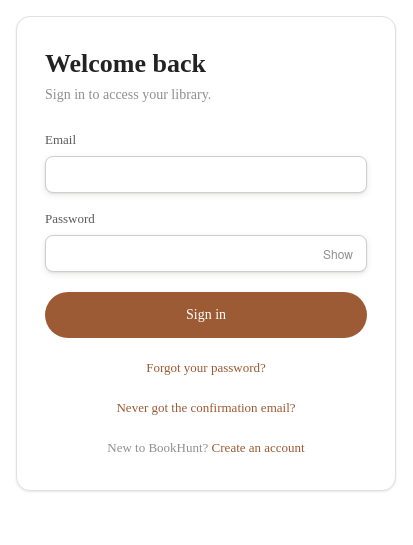
Test: LoginPage › shows an inline error and stays on the page when credentials are rejected
Type "reader@example.com" into the field labelled "Email".
click(206, 174); type("reader@example.com")  # box [45,156,367,193]
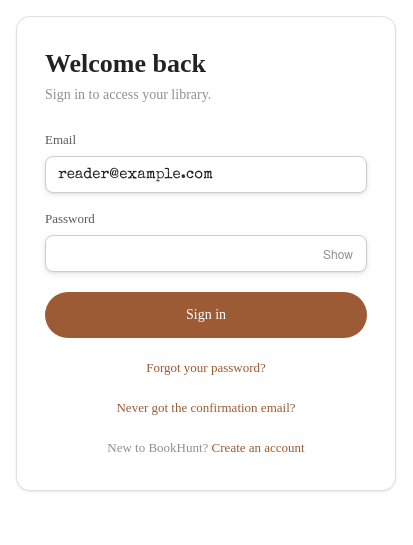
Type "b00kW0rm!" into the password field labelled "Password".
click(206, 254); type("b00kW0rm!")  # box [45,235,367,272]
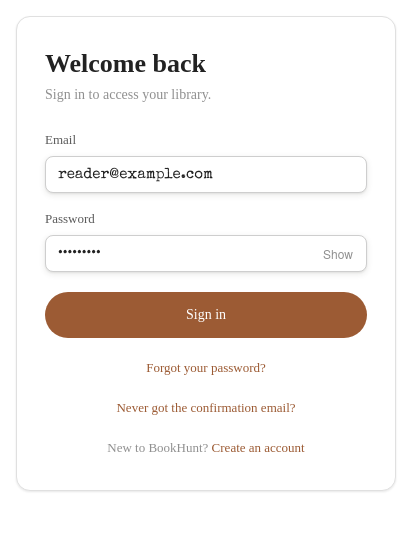
Click the button "Sign in".
click(206, 315)  # box [45,292,367,338]
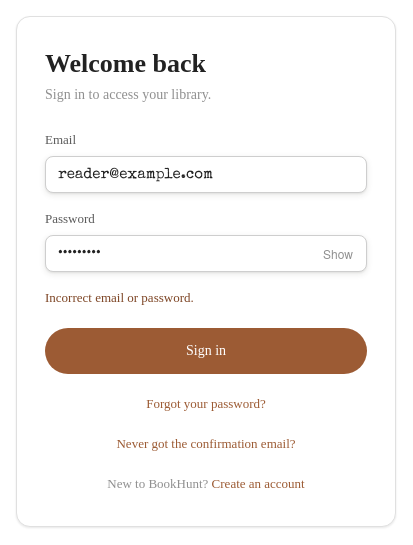
Now the message reads "Incorrect email or password.", box [45,290,194,305]
